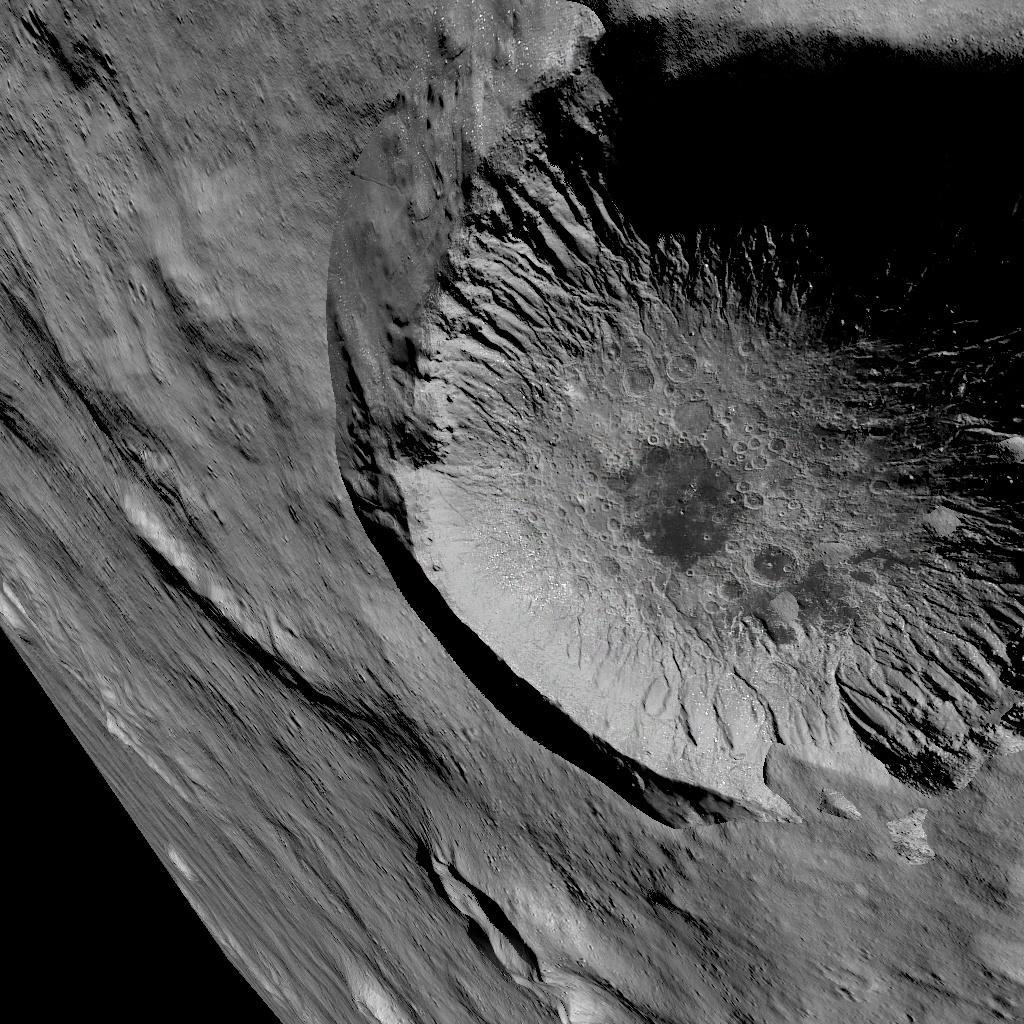Crater: (302, 2, 1024, 806), (391, 824, 562, 996)
Plan surface: (597, 848, 1024, 1024)
